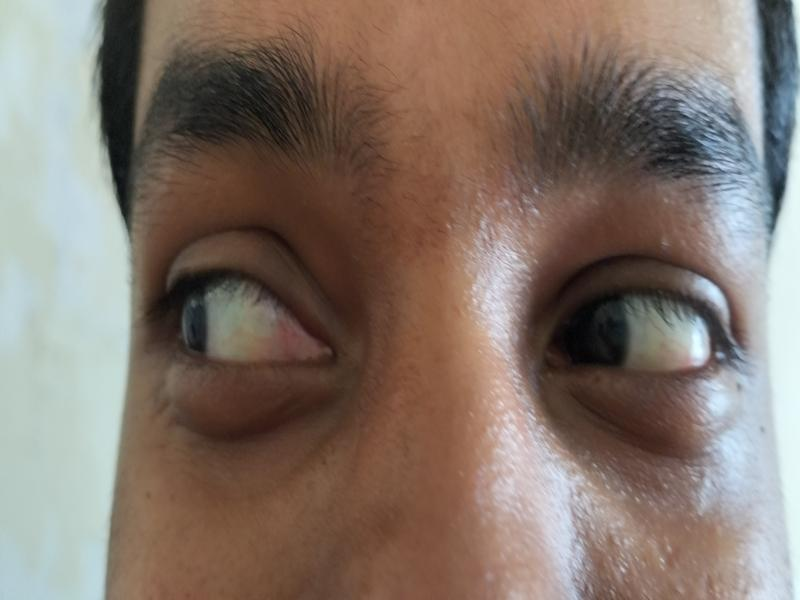EYE RIGHT: (168, 271, 339, 362), (567, 295, 719, 376)
